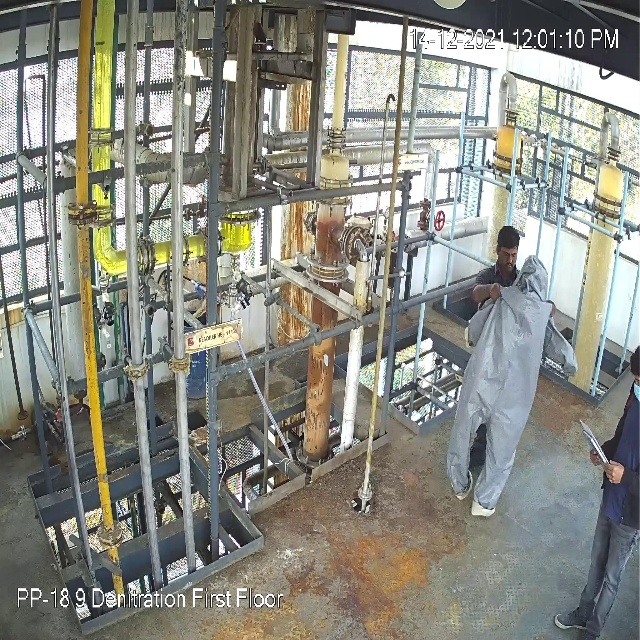Sin_gafas: (600, 455, 621, 489), (501, 250, 519, 260)
Sin_mascara: (499, 258, 518, 272)
